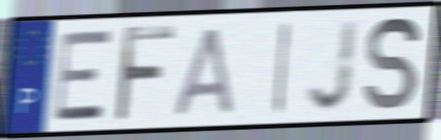A: (170, 24, 236, 118)
E: (52, 27, 114, 125)
F: (111, 23, 178, 125)
I: (270, 19, 294, 118)
J: (304, 18, 360, 115)
S: (361, 14, 423, 115)
